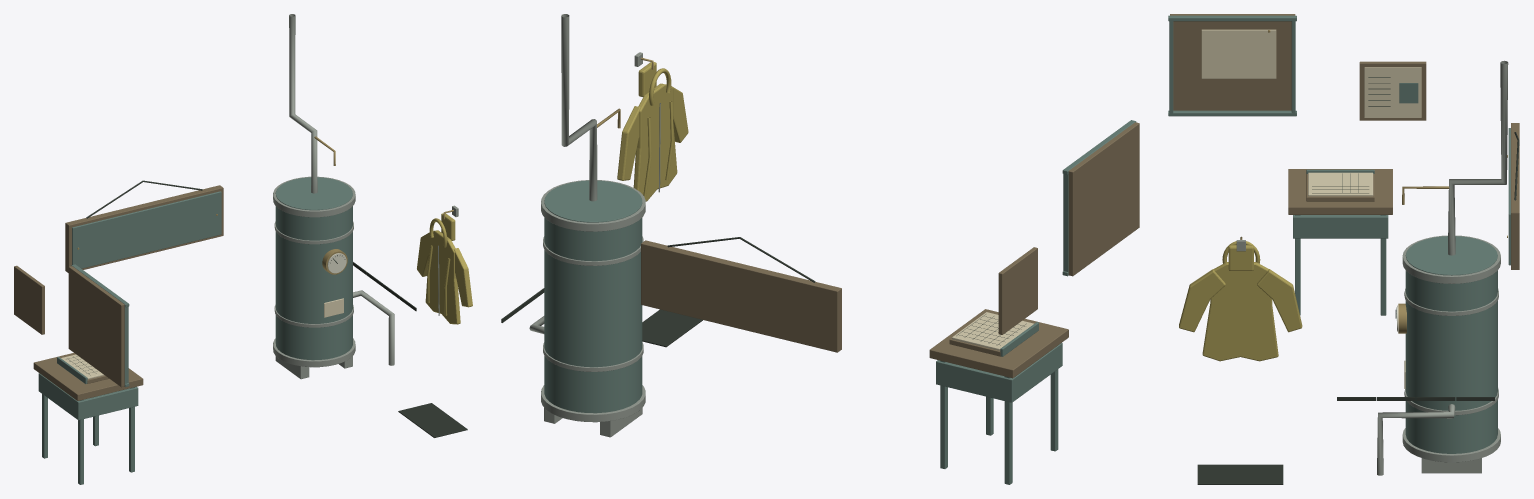
File: backroom.glb
The picture shows the model from 3 angles, left to right: view 1: azimuth 30°, elevation 25°; view 2: azimuth 150°, elevation 25°; view 3: azimuth 270°, elevation 25°; orthographic projection. The views are drawn at different scales.
Visible parts, largest first — view 1: Rear_PaintedSteel, Rear_Oak, Rear_Steel, Rear_Raincoat, Rear_Rubber, Rear_Paper; view 2: Rear_Oak, Rear_PaintedSteel, Rear_Steel, Rear_Raincoat, Rear_Rubber, Rear_Paper; view 3: Rear_PaintedSteel, Rear_Oak, Rear_Raincoat, Rear_Paper, Rear_Steel, Rear_Rubber, Rear_Brass, Rear_Ink.
Boxes of the visible parts, bbox=[...] form: Rear_PaintedSteel: bbox=[38, 177, 352, 484]; Rear_Oak: bbox=[14, 185, 223, 400]; Rear_Steel: bbox=[273, 14, 458, 379]; Rear_Raincoat: bbox=[417, 213, 472, 324]; Rear_Rubber: bbox=[86, 180, 467, 437]; Rear_Paper: bbox=[61, 298, 343, 379]; Rear_Oak: bbox=[641, 122, 1139, 378]; Rear_PaintedSteel: bbox=[544, 120, 1136, 484]; Rear_Steel: bbox=[529, 14, 660, 437]; Rear_Raincoat: bbox=[617, 62, 688, 201]; Rear_Rubber: bbox=[501, 237, 815, 347]; Rear_Paper: bbox=[952, 312, 1033, 350]; Rear_PaintedSteel: bbox=[1168, 15, 1510, 453]; Rear_Oak: bbox=[1170, 14, 1519, 269]; Rear_Raincoat: bbox=[1179, 241, 1302, 361]; Rear_Paper: bbox=[1201, 29, 1421, 388]; Rear_Steel: bbox=[1236, 60, 1508, 475]; Rear_Rubber: bbox=[1197, 132, 1519, 484]; Rear_Brass: bbox=[1240, 30, 1507, 333]; Rear_Ink: bbox=[1312, 77, 1396, 318].
Size of the model in its own units: 3.17 by 2.75 by 2.21.
